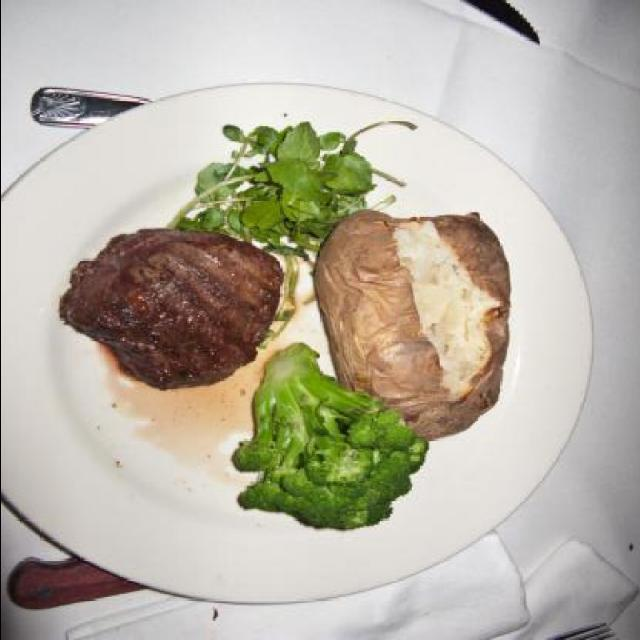Broccoli: (231, 343, 427, 531)
